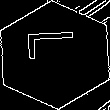L_E: (26, 38, 84, 72)
